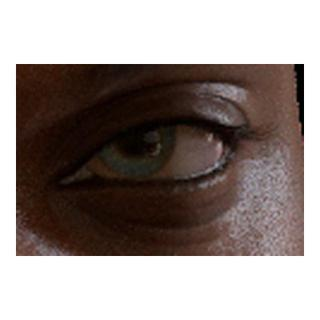pupil: (117, 118, 153, 154)
